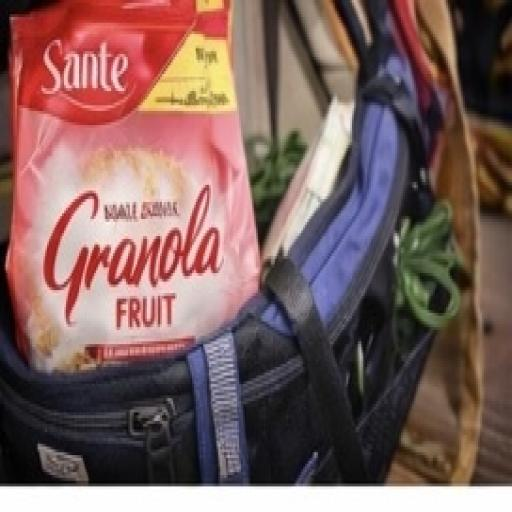granola: (2, 2, 291, 428)
